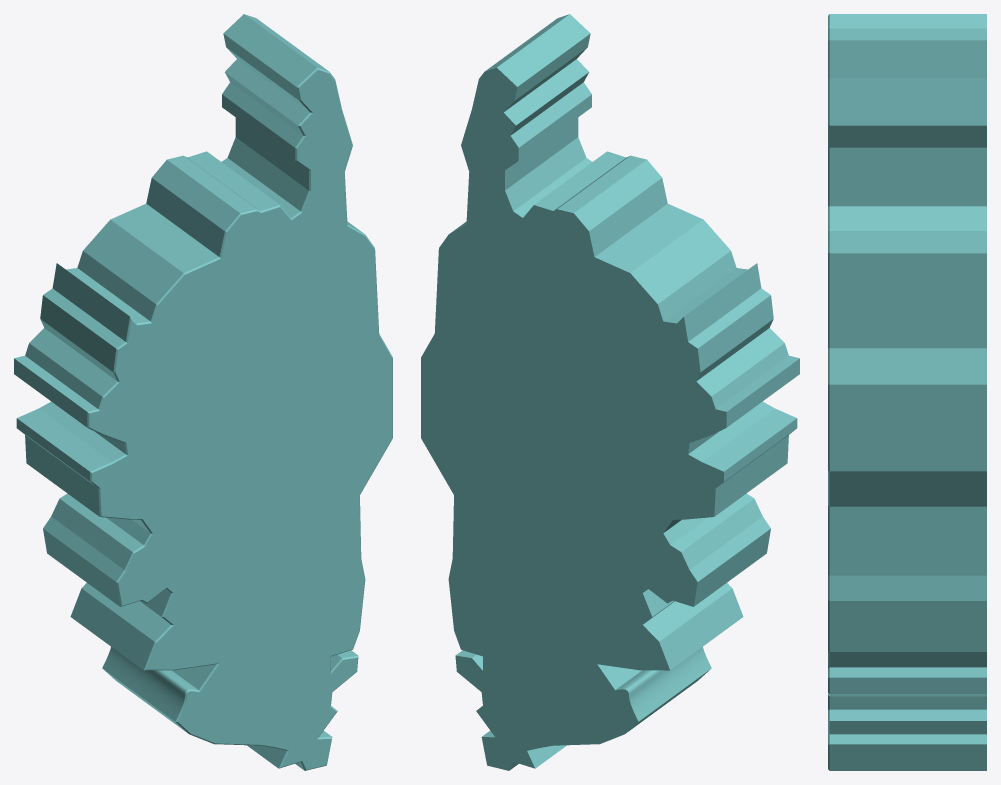
File: Corse.glb
3 renders of one model, left to right at view 1: azimuth 30°, elevation 25°; view 2: azimuth 150°, elevation 25°; view 3: azimuth 270°, elevation 25°, orthographic. The views are drawn at different scales.
Visible parts, largest first — view 1: Corsica; view 2: Corsica; view 3: Corsica.
Part boxes in pixels (box(x1,y1,x2,y2)): Corsica: box(14, 14, 392, 770); Corsica: box(421, 14, 799, 770); Corsica: box(828, 14, 986, 770).
Size of the model in its own units: 0.3059 by 0.6697 by 0.1283.
